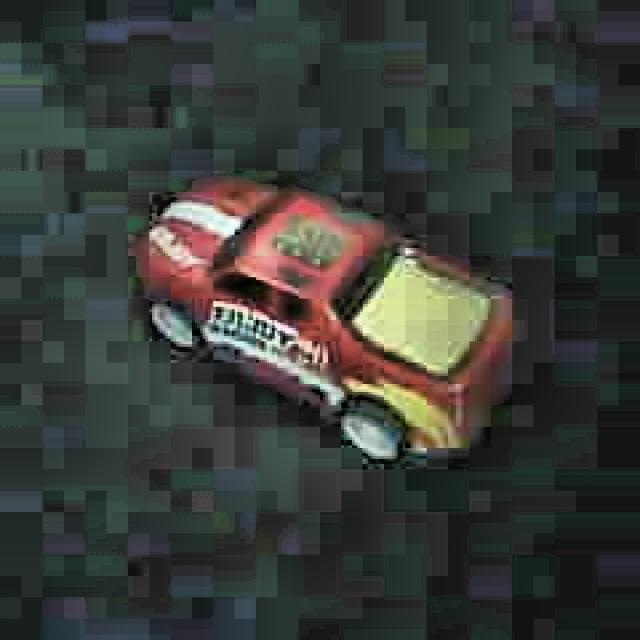car: (126, 161, 522, 480)
